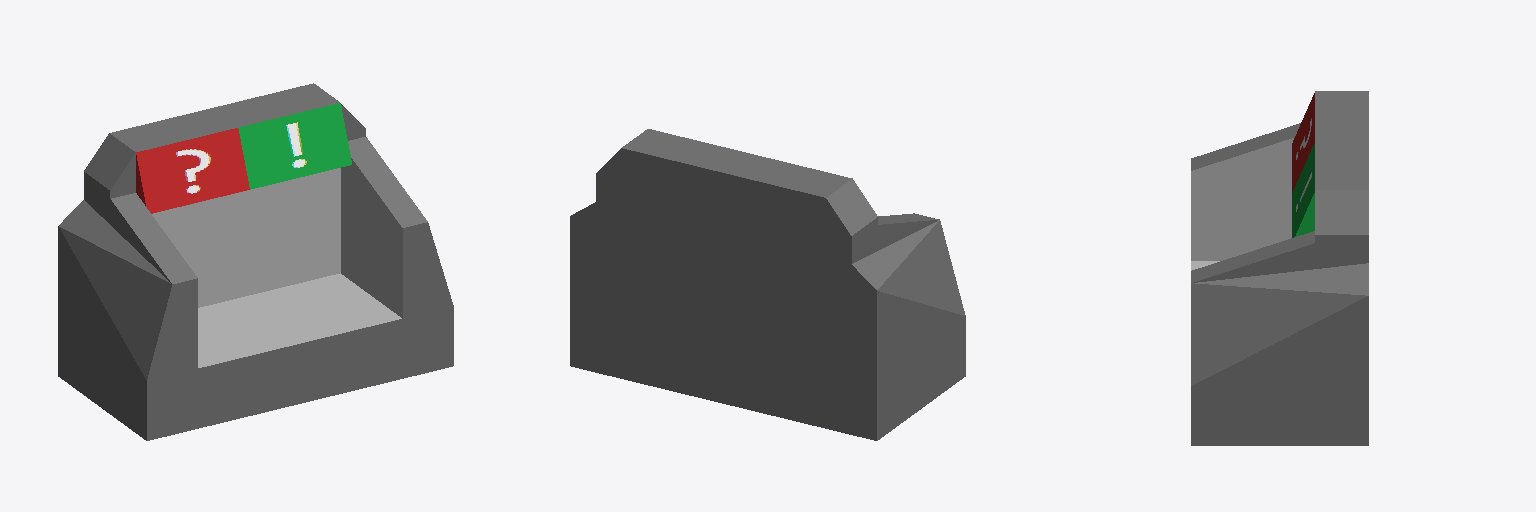
3 renders of one model, left to right at view 1: azimuth 30°, elevation 25°; view 2: azimuth 150°, elevation 25°; view 3: azimuth 270°, elevation 25°, orthographic.
Parts seen in each view (by area): view 1: Station_Cube, InfoButton_Cube.003, BuyButton_Cube.002; view 2: Station_Cube; view 3: Station_Cube, BuyButton_Cube.002, InfoButton_Cube.003.
Part boxes in pixels (x1,y1,x2,y2): Station_Cube: (58,83,453,440); InfoButton_Cube.003: (136,128,249,213); BuyButton_Cube.002: (238,103,351,189); Station_Cube: (570,129,965,440); Station_Cube: (1191,91,1368,445); BuyButton_Cube.002: (1292,143,1314,237); InfoButton_Cube.003: (1292,93,1314,192).
Bounding box in the file's own units: 2 × 1.44 × 1.
3 materials, 1 textured.